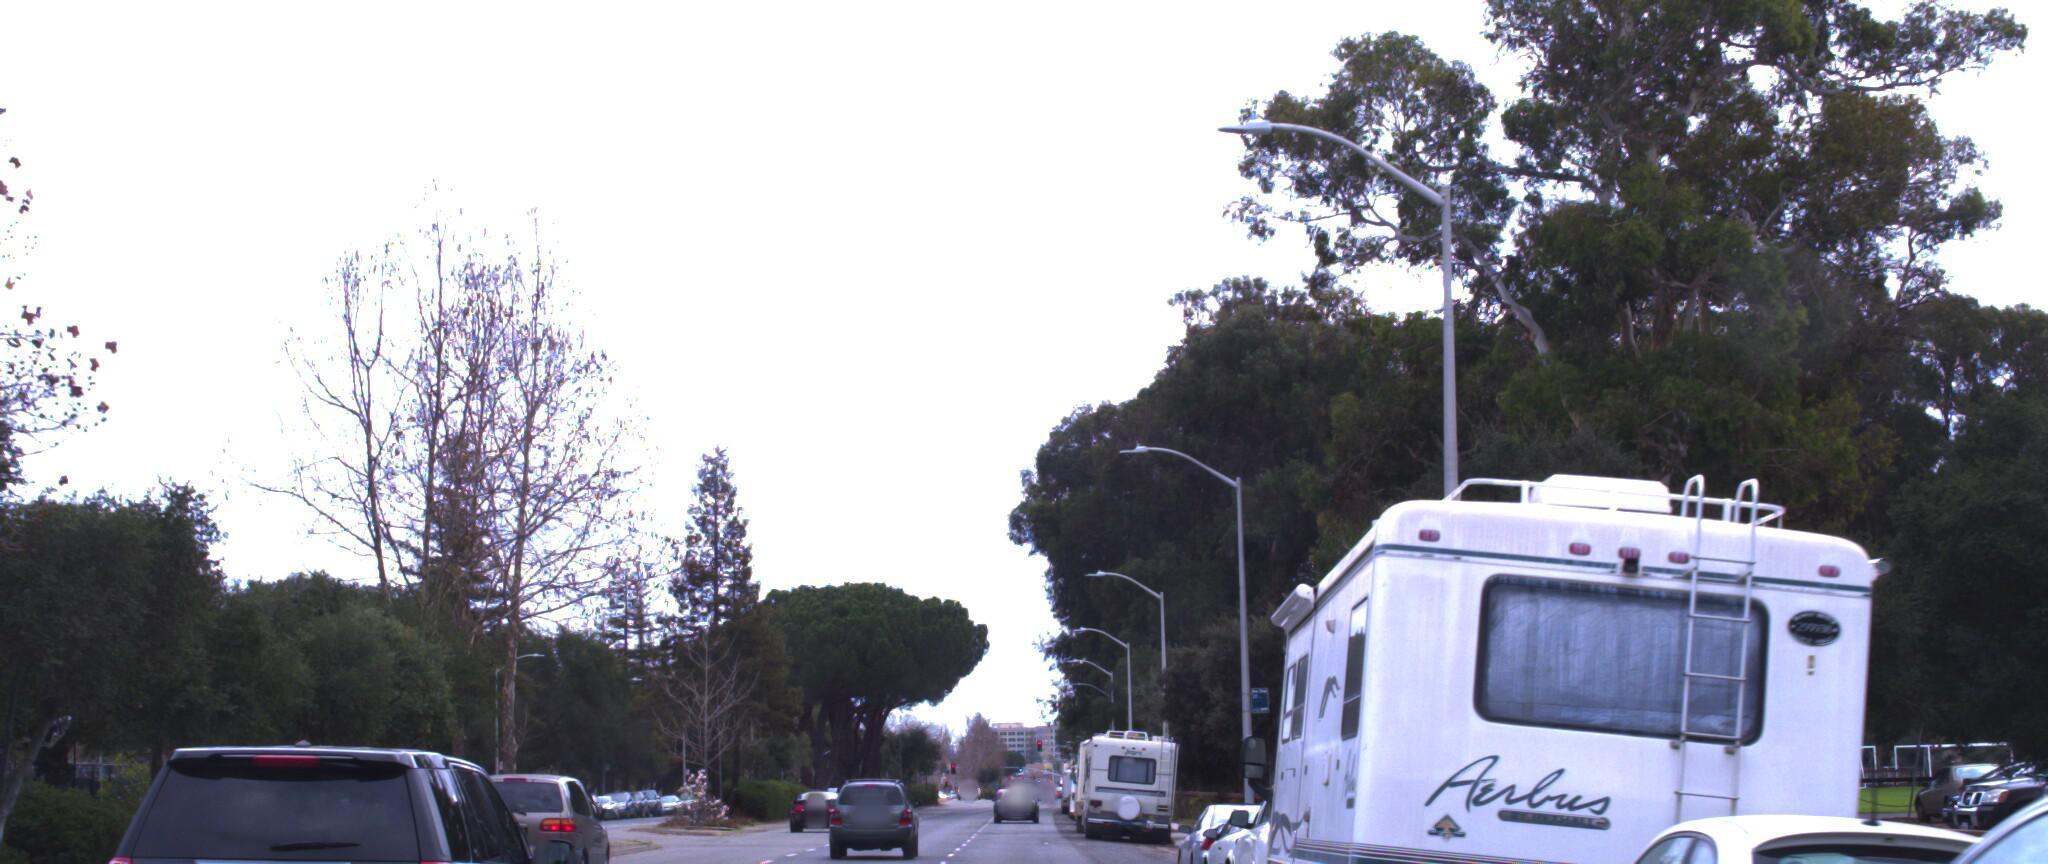car: (74, 711, 588, 864), (1664, 731, 2048, 864), (1485, 784, 2048, 864), (1185, 750, 1477, 864), (447, 756, 633, 864), (1178, 786, 1357, 864), (1155, 784, 1306, 864), (831, 753, 921, 837)
other_vehicle: (1230, 442, 1930, 864)
